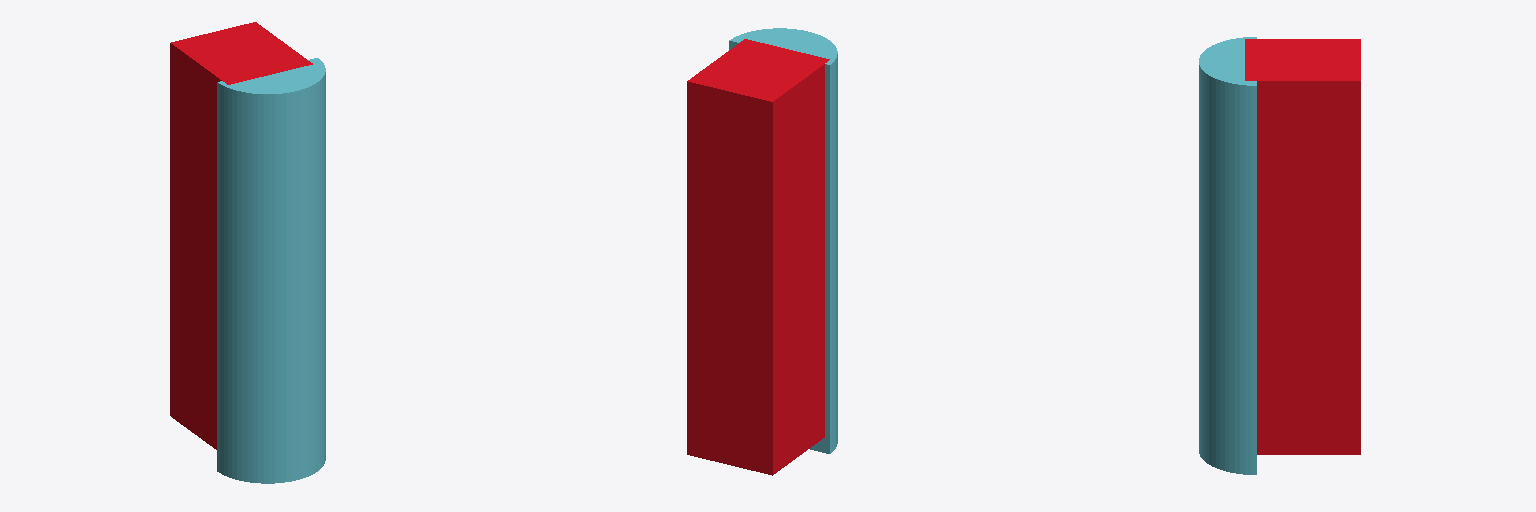
The model's file is tinker.obj.
3 renders of one model, left to right at view 1: azimuth 30°, elevation 25°; view 2: azimuth 150°, elevation 25°; view 3: azimuth 270°, elevation 25°, orthographic.
Parts seen in each view (by area): view 1: obj_0; view 2: obj_0; view 3: obj_0.
Part boxes in pixels (bbox=[...]): obj_0: bbox=[170, 22, 325, 483]; obj_0: bbox=[687, 28, 837, 475]; obj_0: bbox=[1199, 37, 1360, 474].
Size of the model in its own units: 20 by 74 by 28.